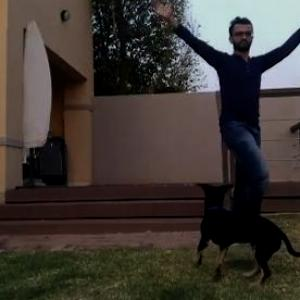takeoff: (142, 2, 300, 246)
